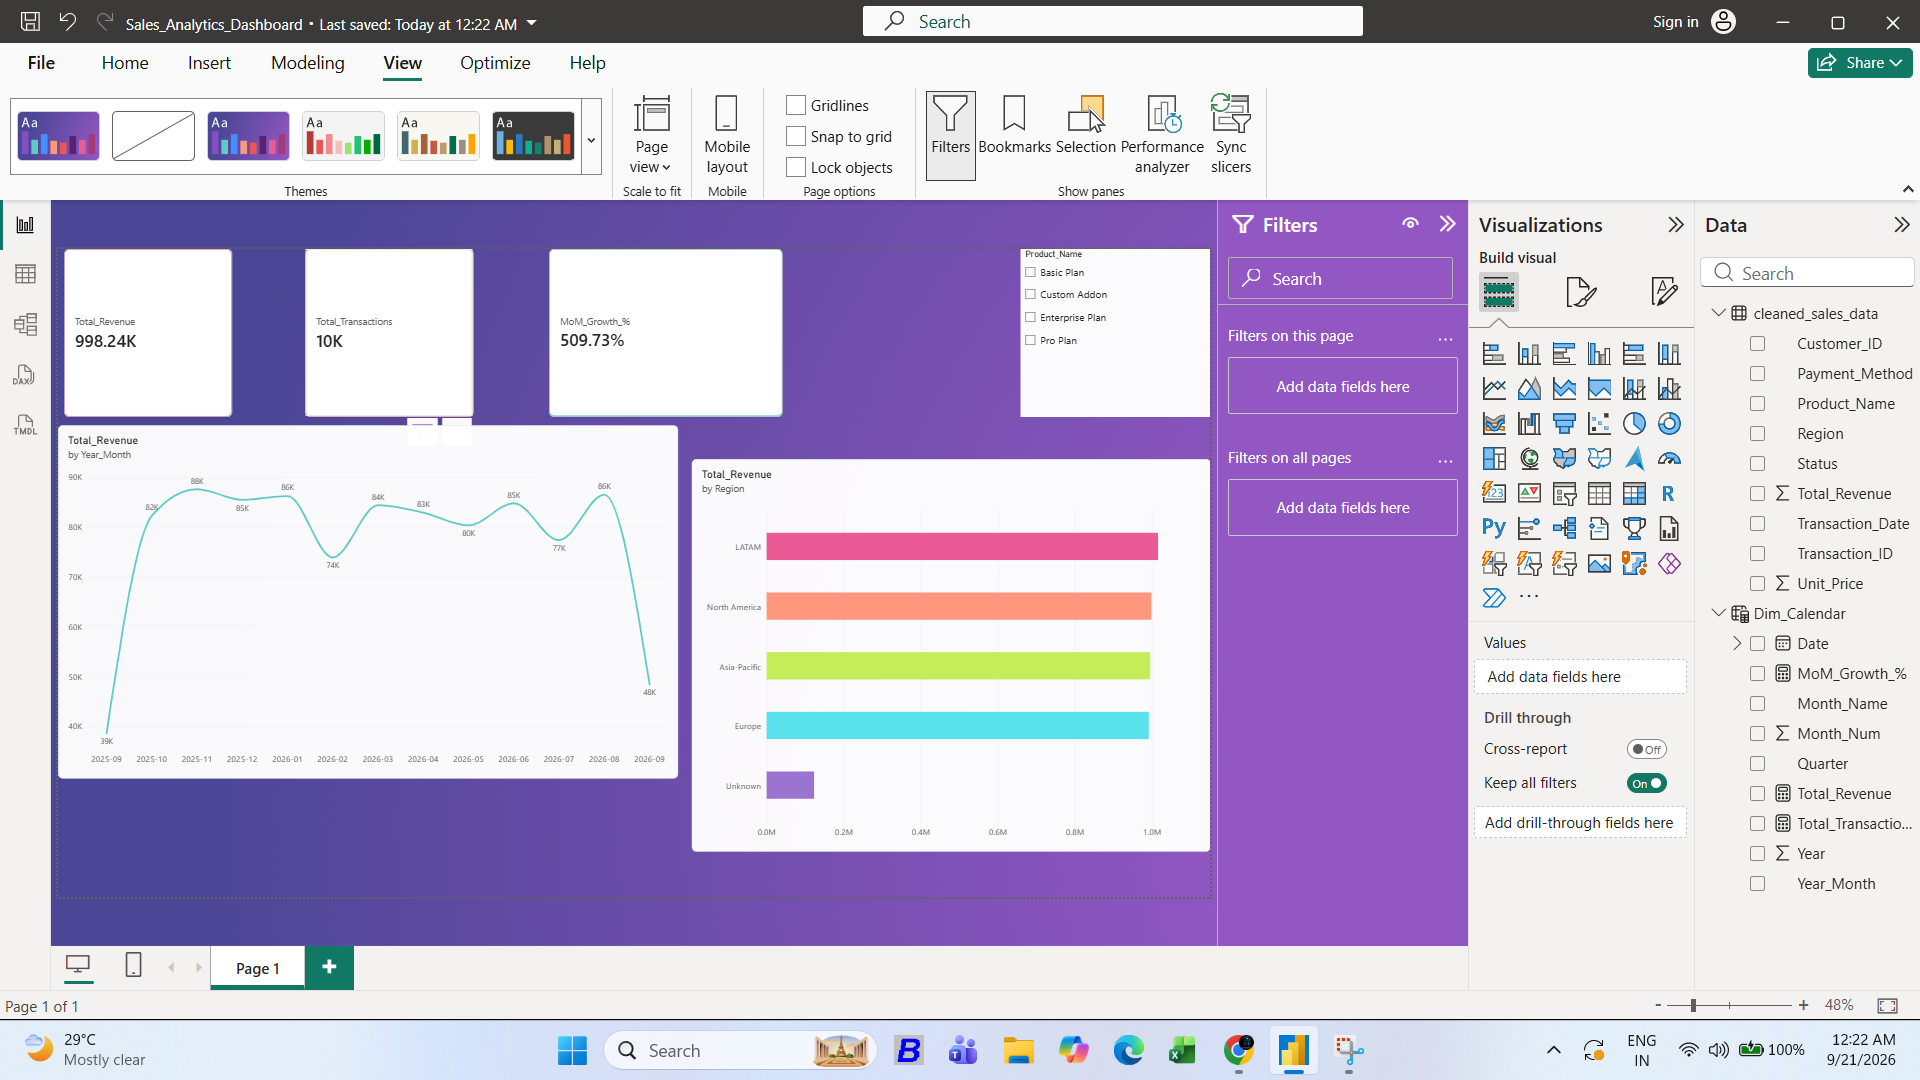

The page's visual inventory and layout, read from the dashboard file:
{"tool":"powerbi","page":{"name":"Page 1","canvas":[1920,1080],"ordinal":0},"visuals":[{"type":"cardVisual","fields":{"Data":["Dim_Calendar.Total_Revenue"]},"box":[10,0,280,280],"z":0},{"type":"cardVisual","fields":{"Data":["Dim_Calendar.Total_Transactions"]},"box":[411.7,0,280,280],"z":1},{"type":"cardVisual","fields":{"Data":["Dim_Calendar.MoM_Growth_%"]},"box":[819.2,0,389,279.9],"z":2},{"type":"lineChart","fields":{"Category":["Dim_Calendar.Year_Month"],"Y":["Dim_Calendar.Total_Revenue"]},"box":[0,294.3,1033.3,588.7],"z":3},{"type":"clusteredBarChart","fields":{"Category":["cleaned_sales_data.Region"],"Y":["Dim_Calendar.Total_Revenue"]},"box":[1055.9,349.9,864.5,654.5],"z":4},{"type":"slicer","fields":{"Values":["cleaned_sales_data.Product_Name"]},"box":[1603.4,0,317,279.9],"z":5}]}

Visuals, with their boxes on the page's 1920x1080 design canvas (x1, y1, x2, y2). These are canvas units, not pixel positions in the 1920x1080 screenshot, which may show the page scaled, cropped or inside an application window:
cardVisual - Dim_Calendar.Total_Revenue: locate(10, 0, 290, 280)
cardVisual - Dim_Calendar.Total_Transactions: locate(412, 0, 692, 280)
cardVisual - Dim_Calendar.MoM_Growth_%: locate(819, 0, 1208, 280)
lineChart - Dim_Calendar.Year_Month x Dim_Calendar.Total_Revenue: locate(0, 294, 1033, 883)
clusteredBarChart - cleaned_sales_data.Region x Dim_Calendar.Total_Revenue: locate(1056, 350, 1920, 1004)
slicer - cleaned_sales_data.Product_Name: locate(1603, 0, 1920, 280)
